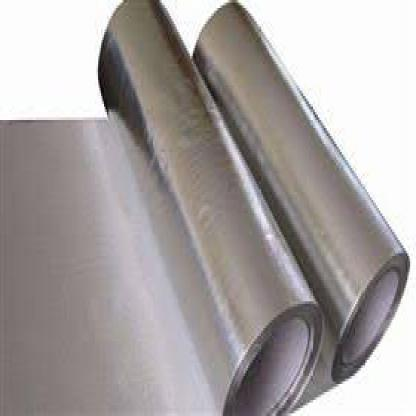METAL: (96, 0, 323, 414), (190, 0, 409, 379), (0, 118, 223, 414)
